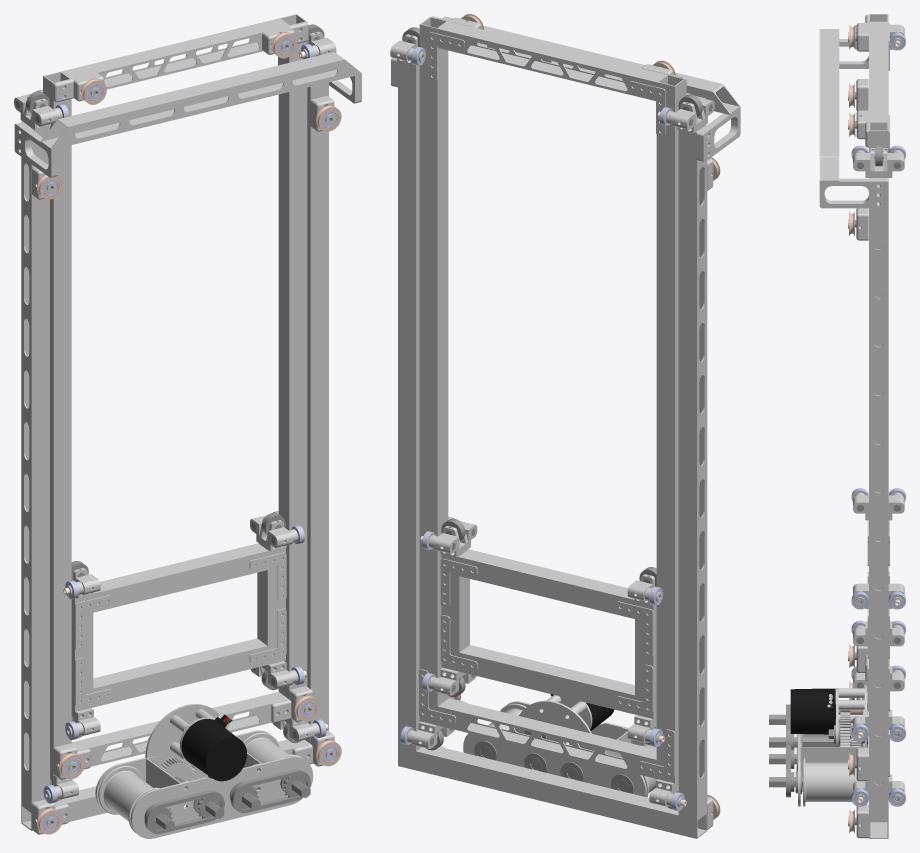
Rendered from Elevator.glb.
3 renders of one model, left to right at view 1: azimuth 30°, elevation 25°; view 2: azimuth 150°, elevation 25°; view 3: azimuth 270°, elevation 25°, orthographic. The views are drawn at different scales.
Parts seen in each view (by area): view 1: Outer Rail:1 (×3), Outer Rail:2, Elevator Carriage Base v3:1, Elevator v17, Crossbeam:1, Component8:1, Crossbeam:2, NEO v2:1, Component3:1, Component1:1, Winch Spool 2in Diameter v1:1, Bottom Bar:1 (+13 smaller); view 2: Outer Rail:1 (×3), Outer Rail:2, Elevator Carriage Base v3:1, Bottom Bar:1, Crossbeam:2, Crossbeam:1, Component3:1, Elevator v17, Component1:1, 90* Angle Bracket v4:7 (×2), Component7:1, 90* Angle Bracket v4:4 (+5 smaller); view 3: Outer Rail:1 (×2), Elevator v17, NEO v2:1, Crossbeam:1, Winch Spool 2in Diameter v1:2, Component7:2, Component6:1, Side Bearing Axle Mount:2 (×2), Elevator Gearbox v8:1, Side Bearing Axle Mount:1 (×2), Hex Shaft 5in v1:3, Pulley Bracket 1in Pulley Corner Bracket Right v1:1 (+10 smaller).
Part boxes in pixels (bbox=[...]): Outer Rail:1 (×3): bbox=[43, 14, 328, 775]; Outer Rail:2: bbox=[21, 121, 49, 811]; Elevator Carriage Base v3:1: bbox=[71, 543, 267, 711]; Elevator v17: bbox=[40, 52, 361, 149]; Crossbeam:1: bbox=[61, 18, 288, 89]; Component8:1: bbox=[130, 756, 313, 838]; Crossbeam:2: bbox=[71, 692, 288, 766]; NEO v2:1: bbox=[181, 712, 246, 781]; Component3:1: bbox=[95, 704, 270, 809]; Component1:1: bbox=[257, 543, 285, 664]; Winch Spool 2in Diameter v1:1: bbox=[98, 765, 159, 832]; Bottom Bar:1: bbox=[21, 739, 310, 830]; Outer Rail:1 (×3): bbox=[398, 16, 685, 783]; Outer Rail:2: bbox=[678, 124, 707, 819]; Elevator Carriage Base v3:1: bbox=[459, 549, 656, 718]; Bottom Bar:1: bbox=[398, 747, 707, 838]; Crossbeam:2: bbox=[437, 699, 656, 778]; Crossbeam:1: bbox=[437, 21, 666, 100]; Component3:1: bbox=[463, 700, 646, 796]; Elevator v17: bbox=[442, 16, 740, 114]; Component1:1: bbox=[441, 549, 469, 671]; 90* Angle Bracket v4:7 (×2): bbox=[419, 615, 477, 725]; Component7:1: bbox=[697, 107, 740, 162]; 90* Angle Bracket v4:4: bbox=[616, 601, 653, 657]; Outer Rail:1 (×2): bbox=[869, 122, 888, 820]; Elevator v17: bbox=[819, 29, 839, 181]; NEO v2:1: bbox=[790, 688, 862, 734]; Crossbeam:1: bbox=[869, 22, 888, 122]; Winch Spool 2in Diameter v1:2: bbox=[803, 757, 857, 806]; Component7:2: bbox=[819, 178, 888, 208]; Component6:1: bbox=[800, 743, 864, 791]; Side Bearing Axle Mount:2 (×2): bbox=[887, 153, 904, 520]; Elevator Gearbox v8:1: bbox=[838, 688, 864, 723]; Side Bearing Axle Mount:1 (×2): bbox=[853, 153, 870, 520]; Hex Shaft 5in v1:3: bbox=[769, 737, 862, 747]; Pulley Bracket 1in Pulley Corner Bracket Right v1:1: bbox=[848, 748, 868, 781].
Bounding box in the file's own units: 0.4354 × 0.9981 × 0.1766.
